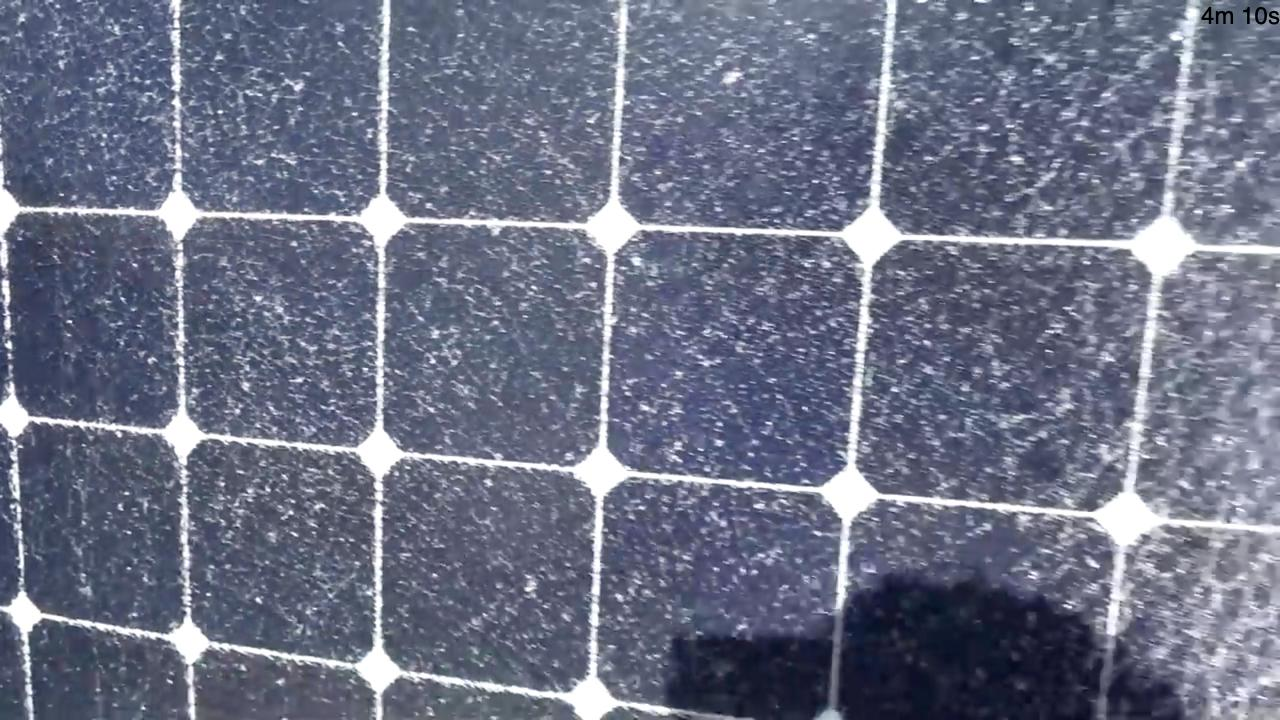Crack: (8, 9, 1274, 481), (628, 488, 1280, 720)
